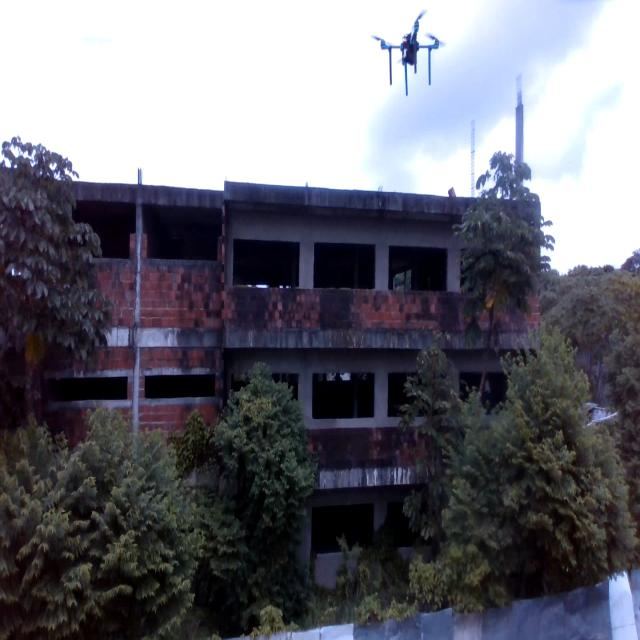-uav-: (368, 0, 449, 102)
